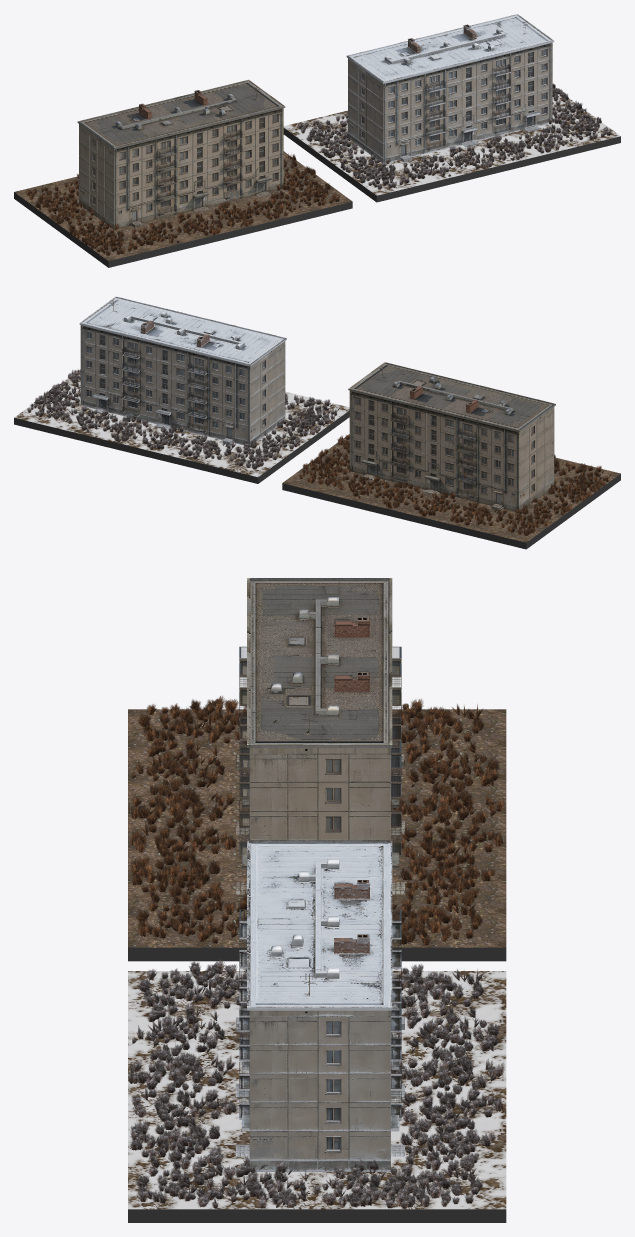
File: soviet_panel_brutal_building_baked.glb
3 views of the same model, one above another, from view 1: azimuth 30°, elevation 25°; view 2: azimuth 150°, elevation 25°; view 3: azimuth 270°, elevation 25° (orthographic). The views are drawn at different scales.
Parts seen in each view (by area): view 1: Cube_0, Cube.001_1, Plane.001_5, Grass_Autumn.007_3, Grass_Autumn.001_2, Plane_4, Plane.002_6, Plane.003_7; view 2: Cube_0, Cube.001_1, Plane.001_5, Grass_Autumn.001_2, Grass_Autumn.007_3, Plane_4, Plane.002_6, Plane.003_7; view 3: Cube.001_1, Cube_0, Grass_Autumn.001_2, Plane_4, Plane.001_5, Grass_Autumn.007_3, Plane.003_7, Plane.002_6.
Boxes of the visible parts, x1,y1,x2,y2 form: Cube_0: (77, 79, 285, 229); Cube.001_1: (346, 14, 554, 163); Plane.001_5: (14, 151, 352, 261); Grass_Autumn.007_3: (26, 152, 339, 255); Grass_Autumn.001_2: (297, 83, 611, 189); Plane_4: (283, 88, 620, 195); Plane.002_6: (14, 192, 352, 267); Plane.003_7: (283, 128, 620, 202); Cube_0: (348, 362, 555, 511); Cube.001_1: (79, 296, 286, 445); Plane.001_5: (282, 434, 620, 542); Grass_Autumn.001_2: (27, 369, 340, 469); Grass_Autumn.007_3: (299, 435, 611, 535); Plane_4: (14, 369, 349, 477); Plane.002_6: (282, 474, 620, 549); Plane.003_7: (14, 410, 349, 483); Cube.001_1: (235, 840, 404, 1171); Cube_0: (235, 578, 404, 894); Grass_Autumn.001_2: (128, 959, 504, 1208); Plane_4: (128, 971, 506, 1209); Plane.001_5: (128, 709, 506, 947); Grass_Autumn.007_3: (129, 696, 504, 945); Plane.003_7: (128, 1209, 506, 1222); Plane.002_6: (128, 947, 506, 961).
Bounding box in the file's own units: 1.85 × 0.3432 × 0.5901.
Materials: 8 (7 with a texture image).
